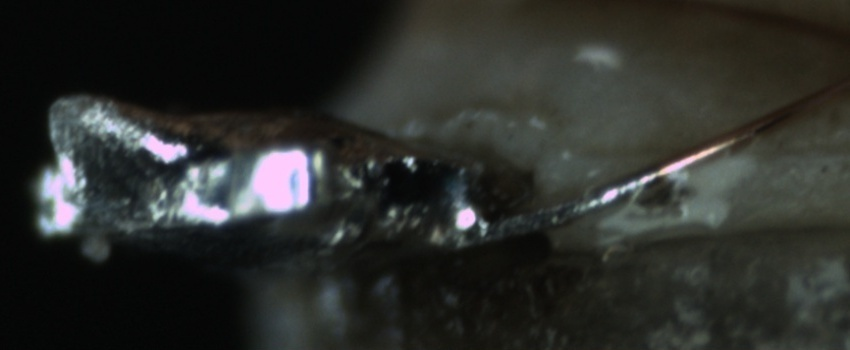TS: (425, 166, 656, 251)
